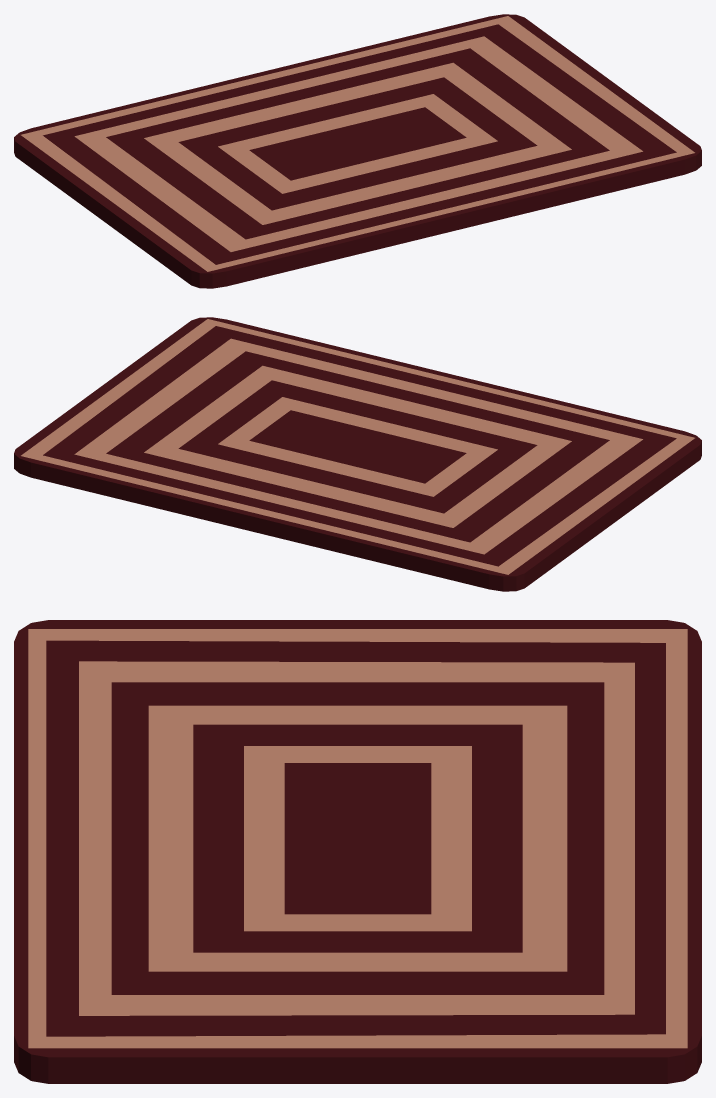
Rendered from Carpet_Rectangle.fbx.
3 views of the same model, one above another, from view 1: azimuth 30°, elevation 25°; view 2: azimuth 150°, elevation 25°; view 3: azimuth 270°, elevation 25° (orthographic). The views are drawn at different scales.
Parts seen in each view (by area): view 1: Carpet Rectangle; view 2: Carpet Rectangle; view 3: Carpet Rectangle.
Part boxes in pixels (x1,y1,x2,y2): Carpet Rectangle: (14, 14, 701, 288); Carpet Rectangle: (14, 317, 701, 591); Carpet Rectangle: (14, 620, 701, 1083).
Bounding box in the file's own units: 301 × 8.55 × 200.
